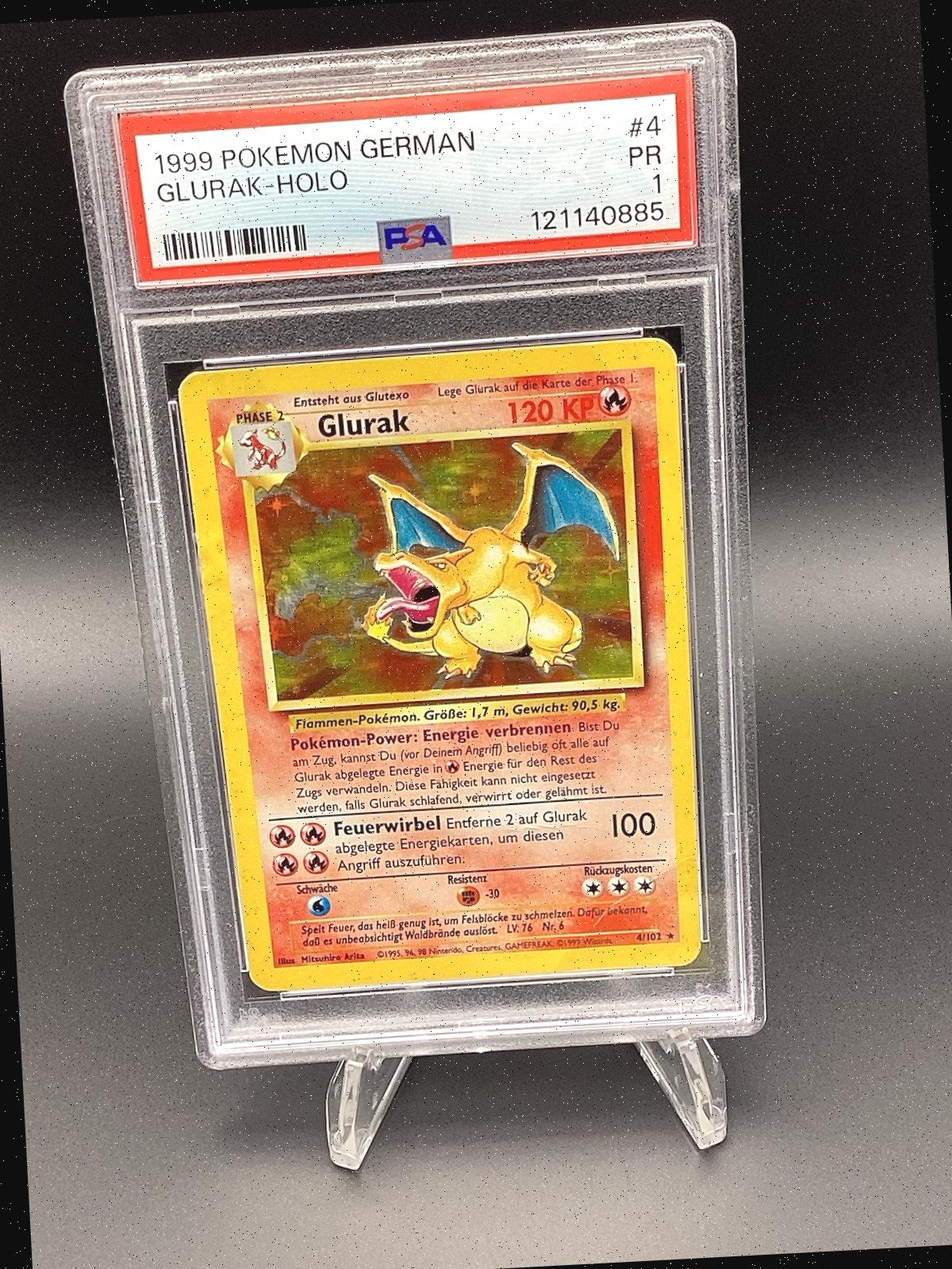card-2UtV: (177, 337, 702, 992)
